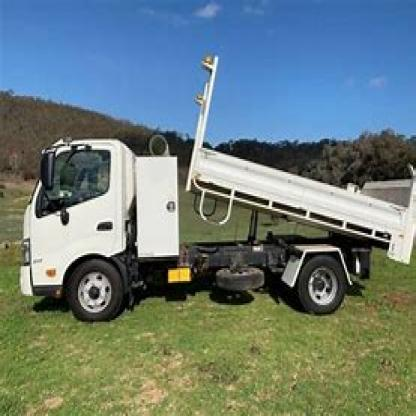dump_truck: (13, 35, 414, 326)
